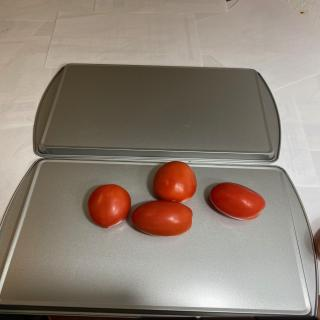Tomato: (131, 200, 193, 237), (210, 182, 266, 220), (88, 184, 132, 228), (153, 160, 197, 202)
